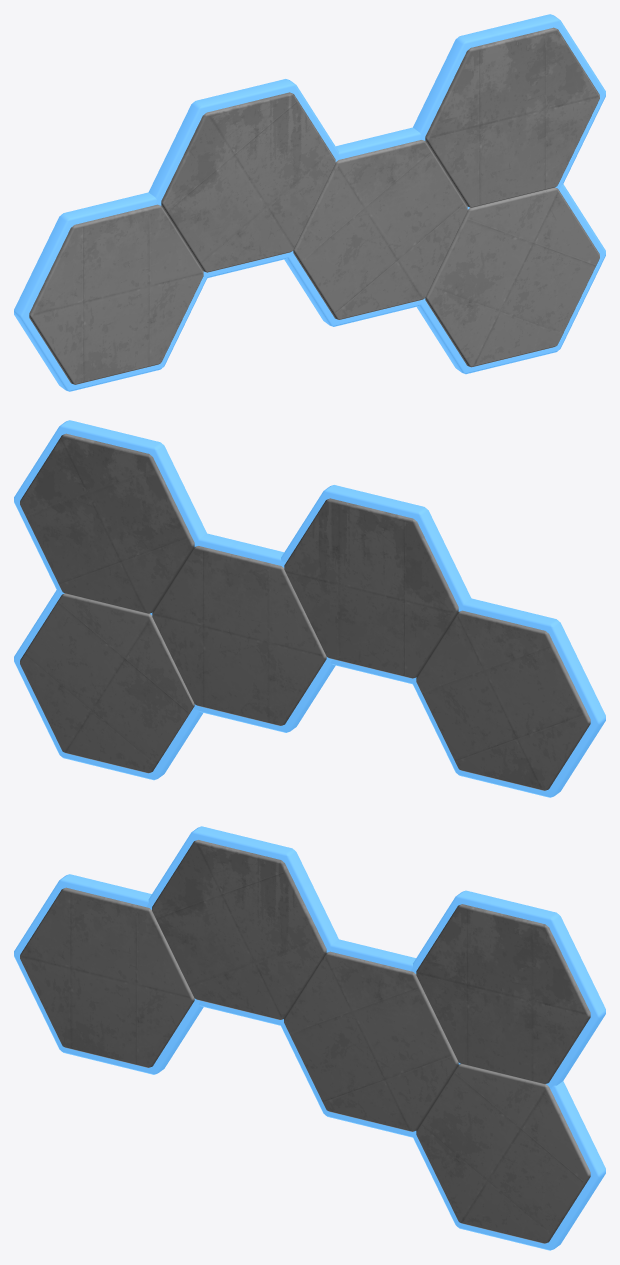
File: SM_HexaPatterns1.glb
The picture shows the model from 3 angles, top to bottom: view 1: azimuth 30°, elevation 25°; view 2: azimuth 150°, elevation 25°; view 3: azimuth 330°, elevation 25°; orthographic projection.
Visible parts, largest first — view 1: SM_HexaPatterns1; view 2: SM_HexaPatterns1; view 3: SM_HexaPatterns1.
Boxes of the visible parts, x1=… form: SM_HexaPatterns1: x1=14, y1=14, x2=605, y2=391; SM_HexaPatterns1: x1=14, y1=420, x2=605, y2=797; SM_HexaPatterns1: x1=14, y1=826, x2=605, y2=1250.
Bounding box in the file's own units: 3.49 × 1.9 × 0.1304.
Materials: 2 (2 with a texture image).
